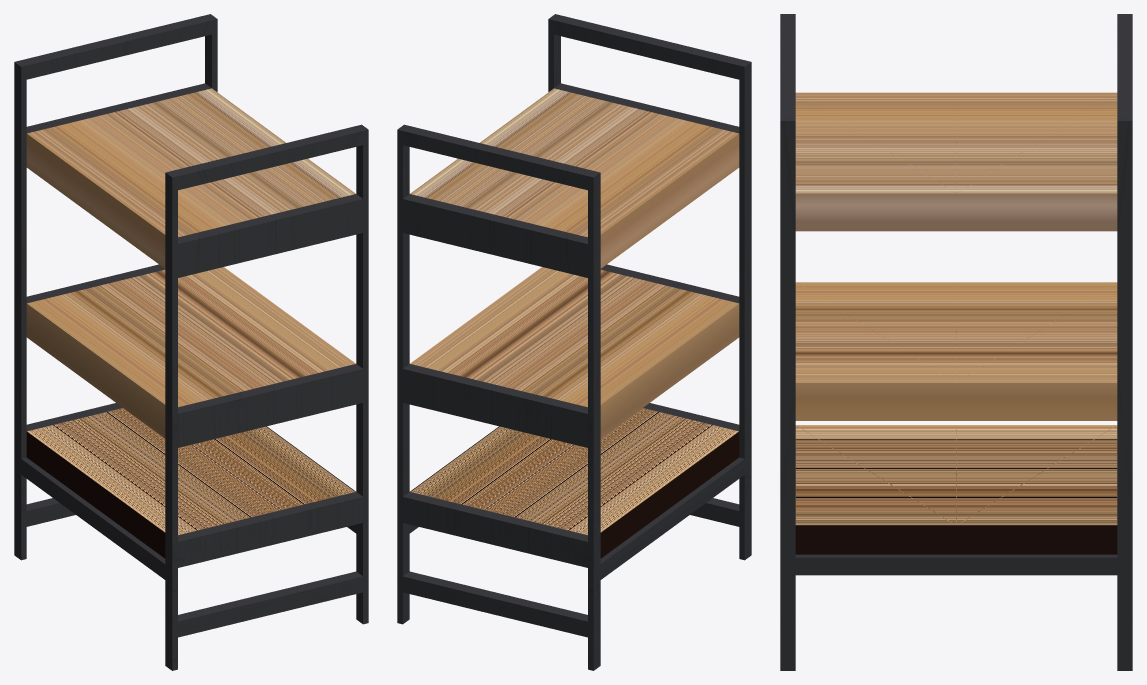
The model's file is lemari besi dan kayu.fbx.
3 views of the same model, side by side, from view 1: azimuth 30°, elevation 25°; view 2: azimuth 150°, elevation 25°; view 3: azimuth 270°, elevation 25° (orthographic). The views are drawn at different scales.
Parts seen in each view (by area): view 1: Cube.021; view 2: Cube.021; view 3: Cube.021.
Boxes of the visible parts, x1=… form: Cube.021: x1=14, y1=14, x2=368, y2=670; Cube.021: x1=397, y1=14, x2=751, y2=670; Cube.021: x1=780, y1=14, x2=1132, y2=670.
Bounding box in the file's own units: 90.69 × 218 × 126.
Materials: 2 (2 with a texture image).
